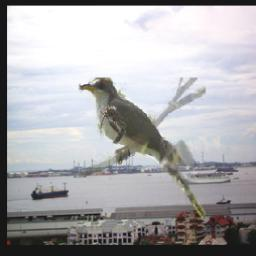Cuckoo: (79, 78, 206, 220)
